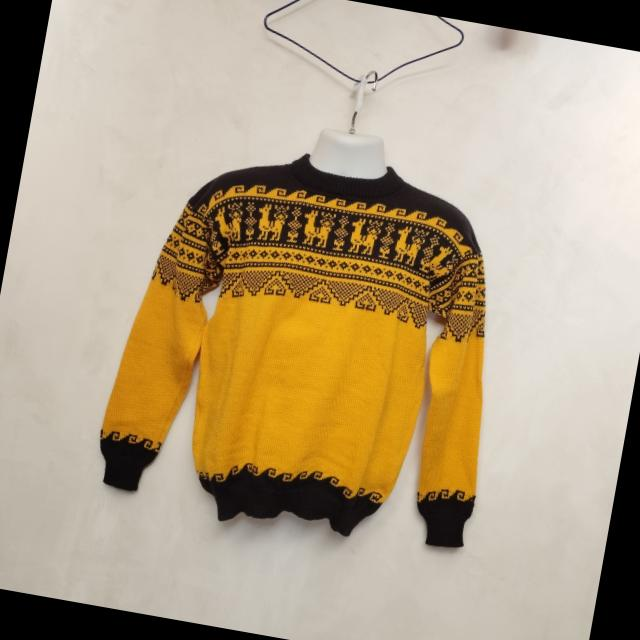Chompa: (87, 103, 534, 564)
